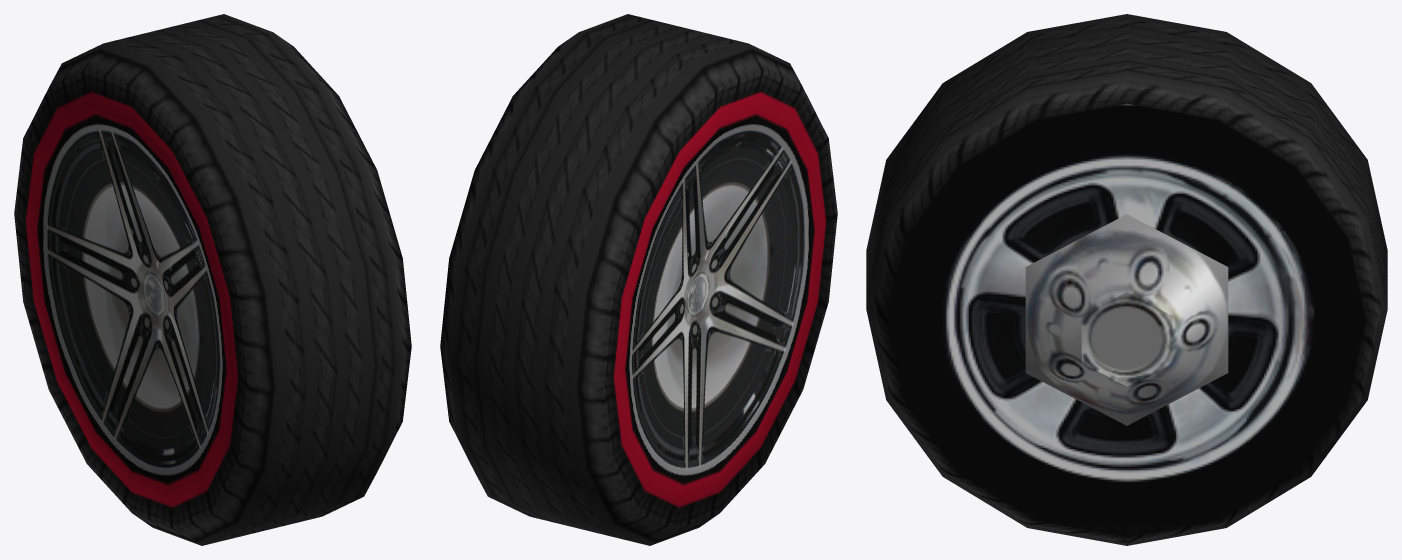
File: wheel_formulamini.FBX
The picture shows the model from 3 angles, left to right: view 1: azimuth 30°, elevation 25°; view 2: azimuth 150°, elevation 25°; view 3: azimuth 270°, elevation 25°; orthographic projection.
Parts seen in each view (by area): view 1: Object005; view 2: Object005; view 3: Object005.
Boxes of the visible parts, left/top/right/bottom form: Object005: left=14, top=14, right=411, bottom=545; Object005: left=440, top=14, right=837, bottom=545; Object005: left=866, top=14, right=1387, bottom=545.
Size of the model in its own units: 0.0479 by 0.1062 by 0.1062.
